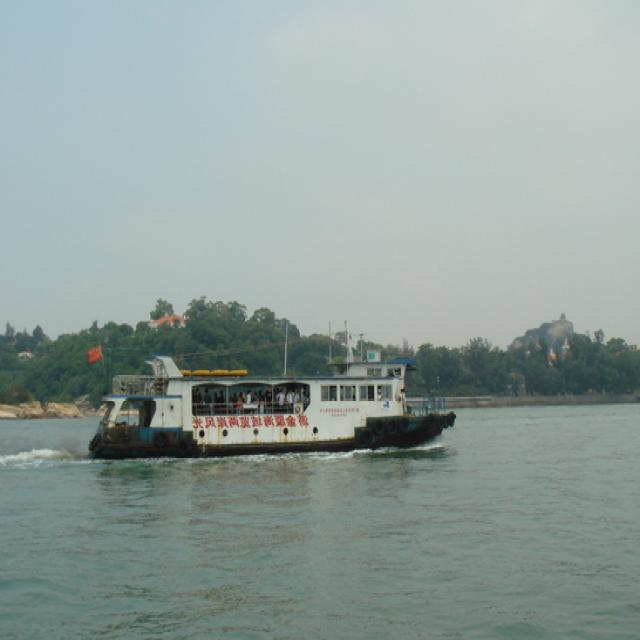houseboat: (70, 319, 455, 452)
